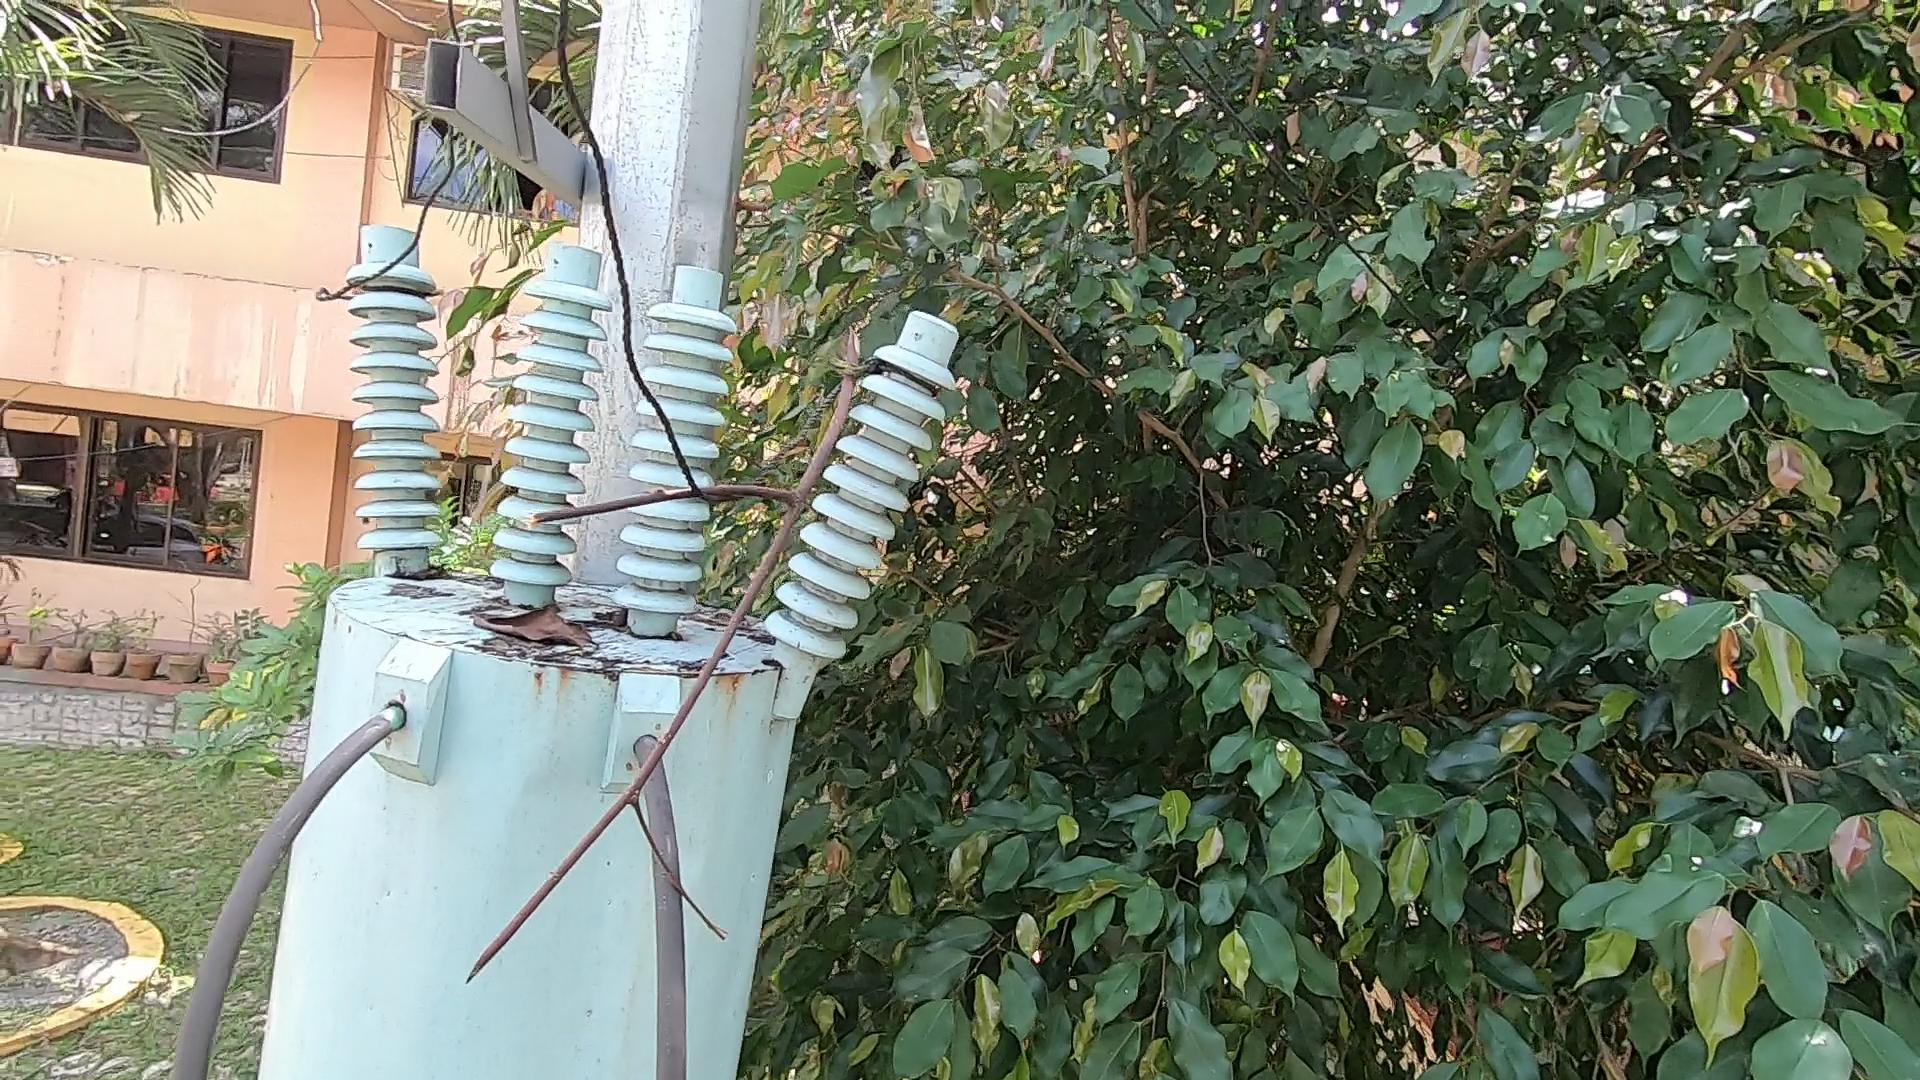leaf: (472, 591, 597, 662)
tree branch: (426, 320, 967, 1009)
